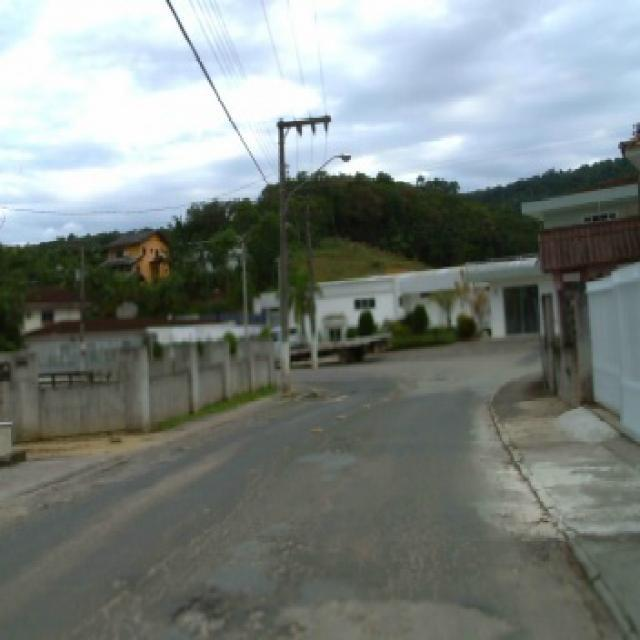Poth-hole: (244, 568, 526, 636), (231, 516, 311, 582), (165, 591, 233, 636), (292, 442, 354, 473), (300, 389, 322, 398), (168, 442, 185, 451), (34, 500, 48, 509), (328, 391, 346, 398), (307, 424, 322, 432), (429, 373, 446, 380), (332, 411, 346, 418), (346, 386, 356, 394)
